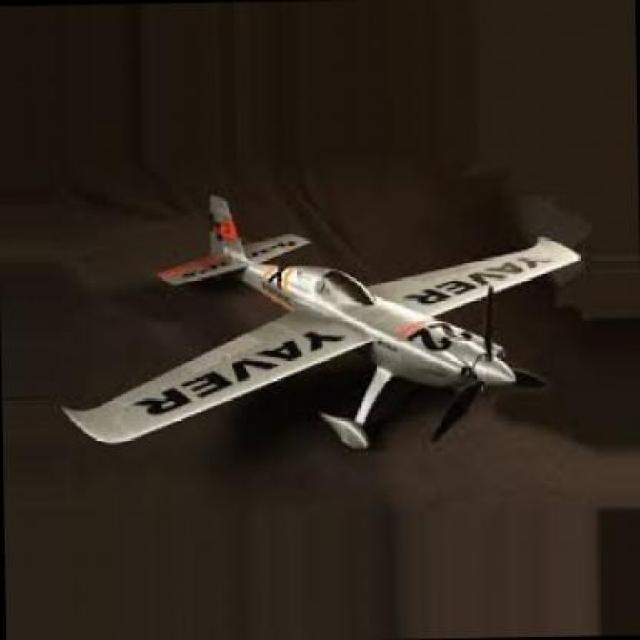iha: (36, 216, 608, 474)
